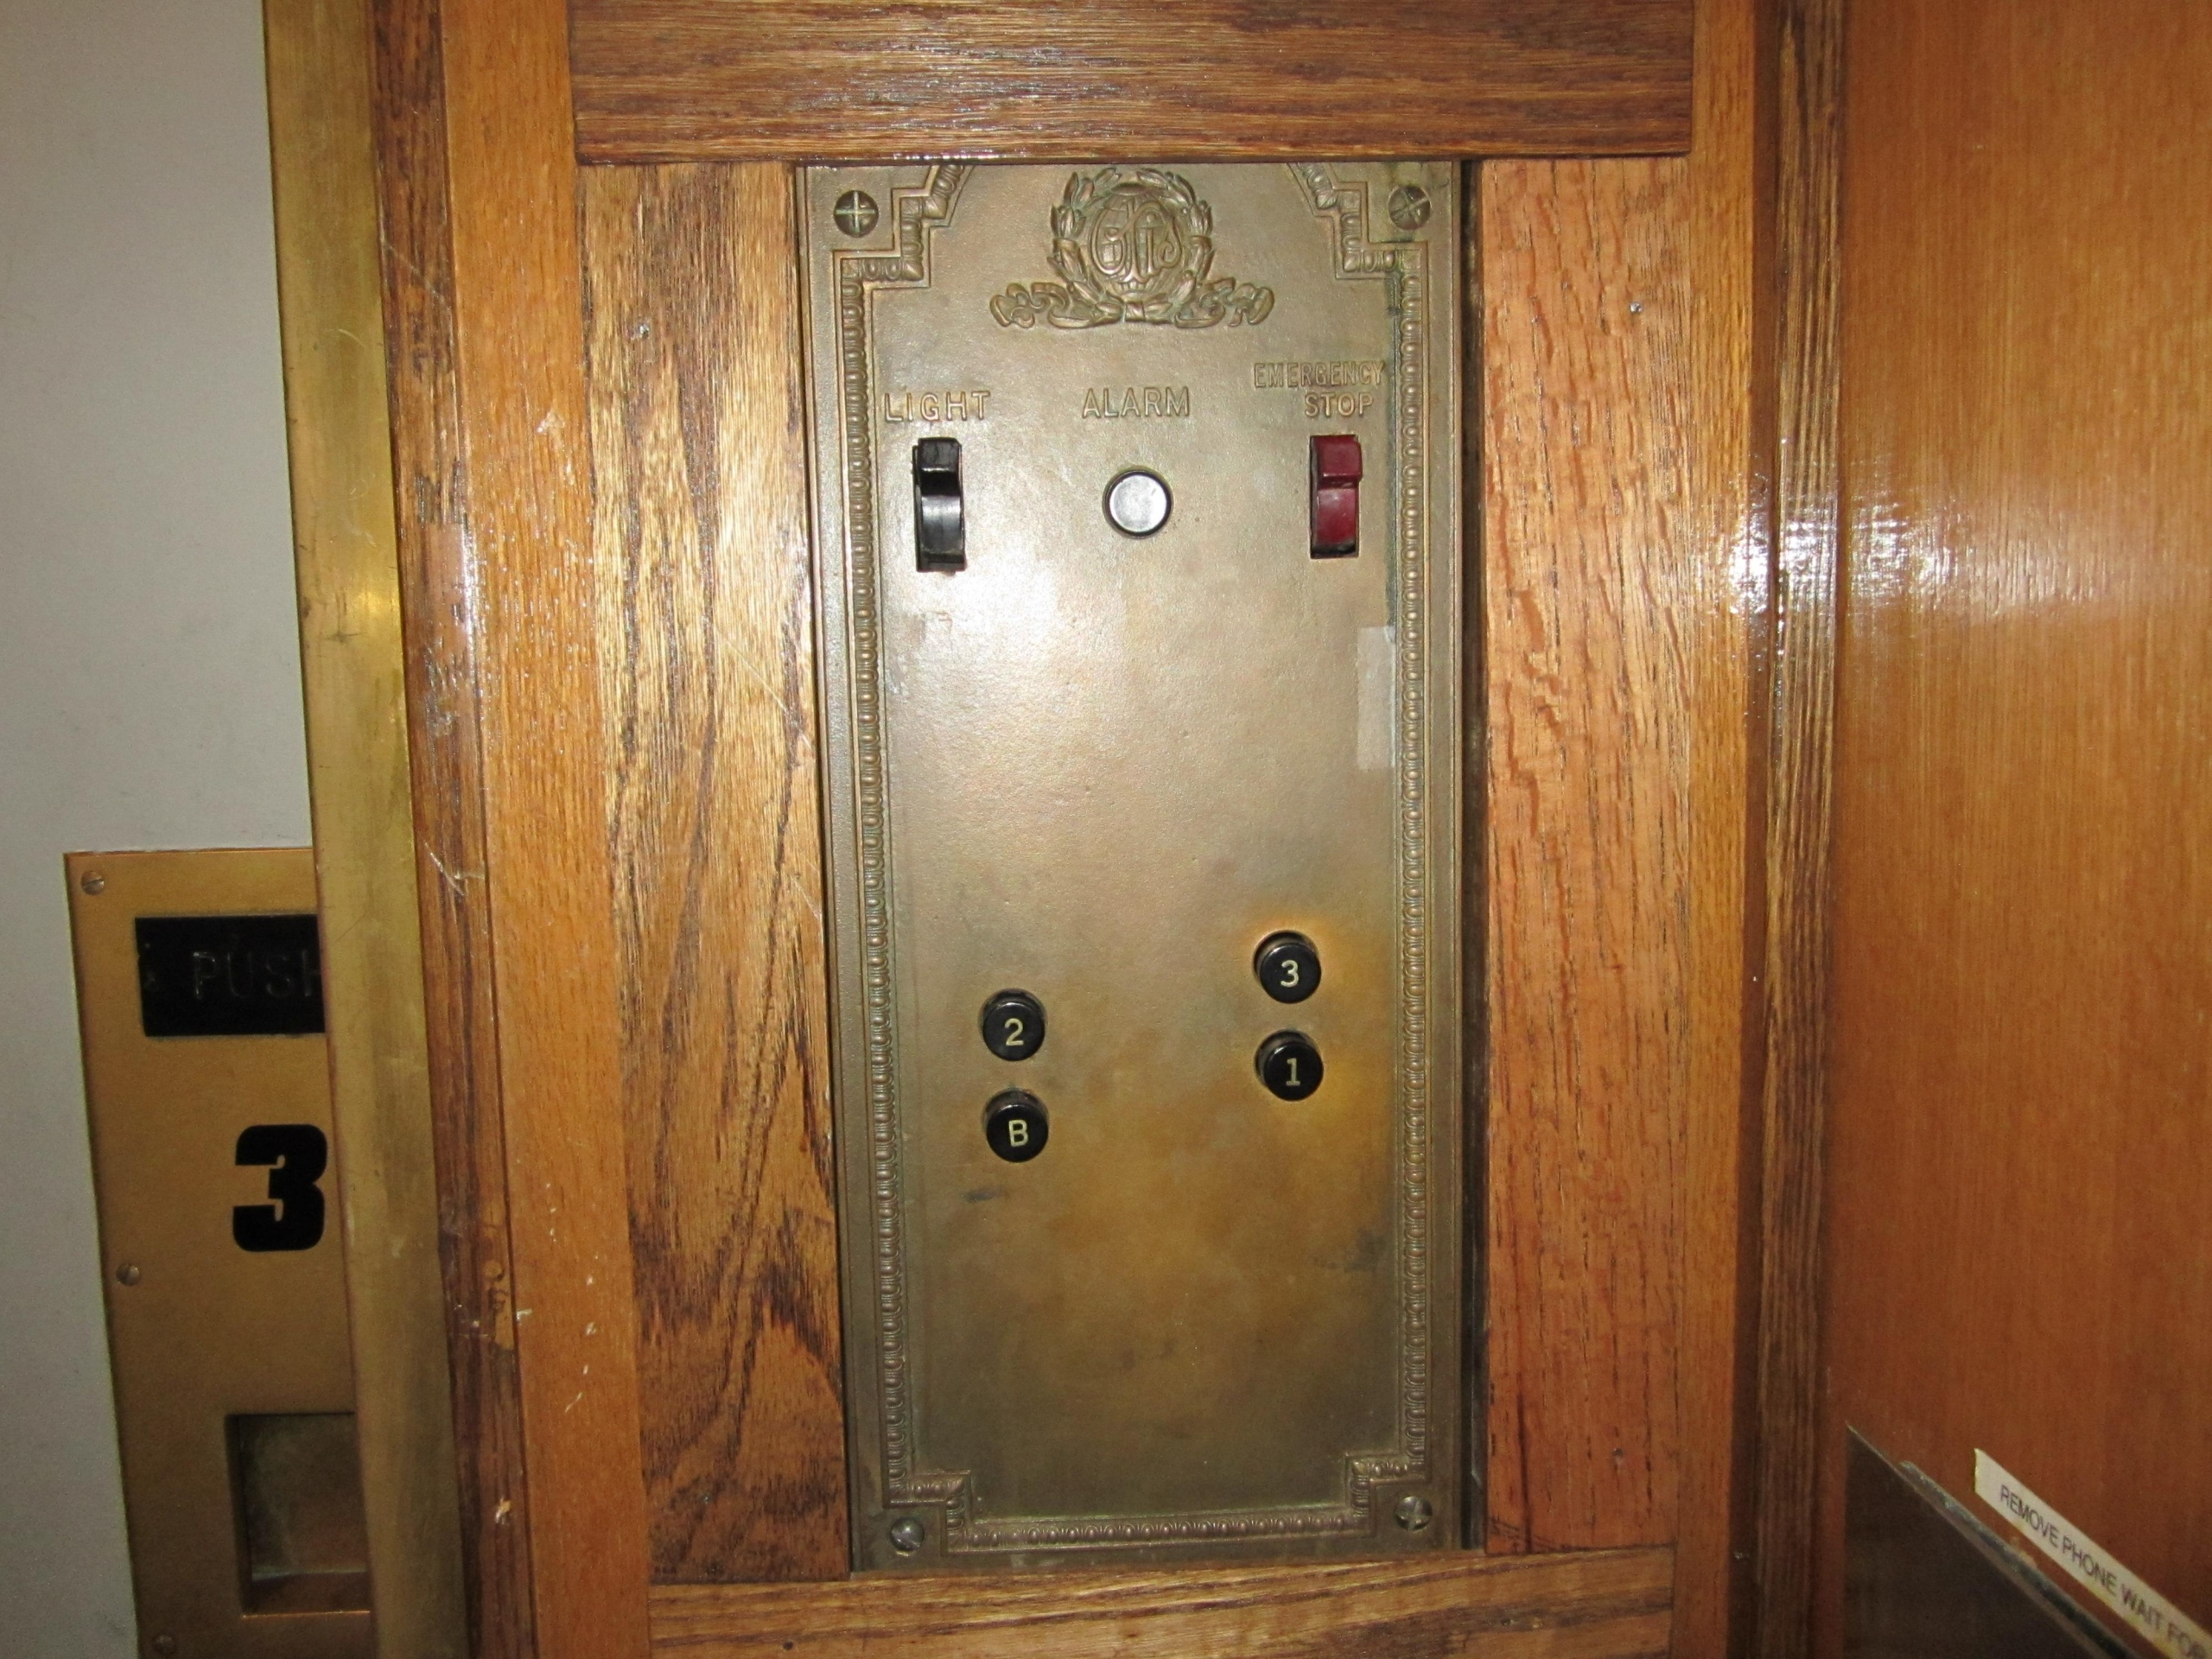1: (1254, 1028, 1325, 1101)
2: (977, 986, 1050, 1061)
3: (1249, 929, 1324, 1006)
B: (981, 1087, 1050, 1162)
empty: (1101, 465, 1174, 538)
switch: (909, 436, 970, 579), (1308, 432, 1362, 563)
